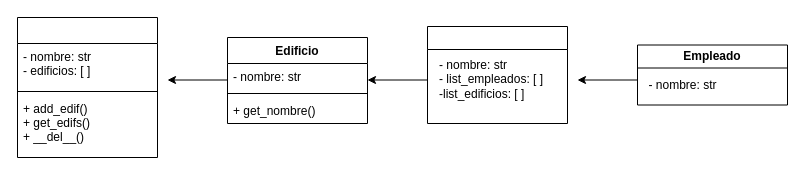
The diagram is 805 pixels wide and 178 high, and some of its shapes have lost their labels. Each missing label, with the box of its shape:
Ciudad: (16, 16, 158, 158)
Empresa: (426, 26, 568, 124)
